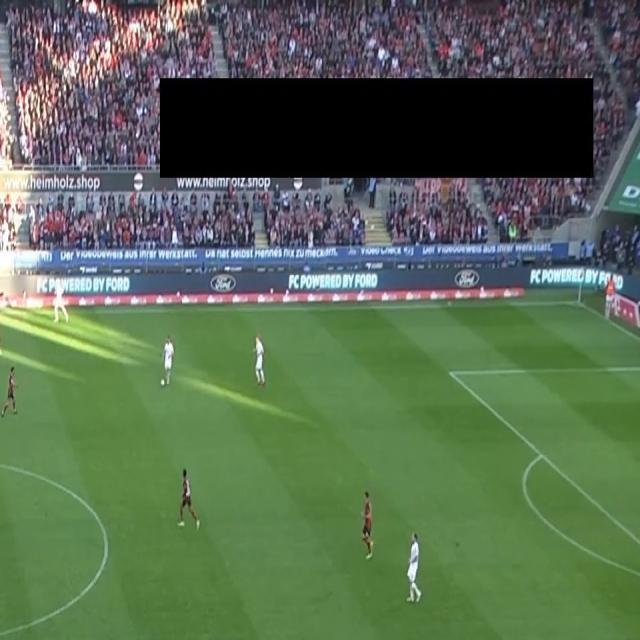ball: (160, 378, 166, 387)
